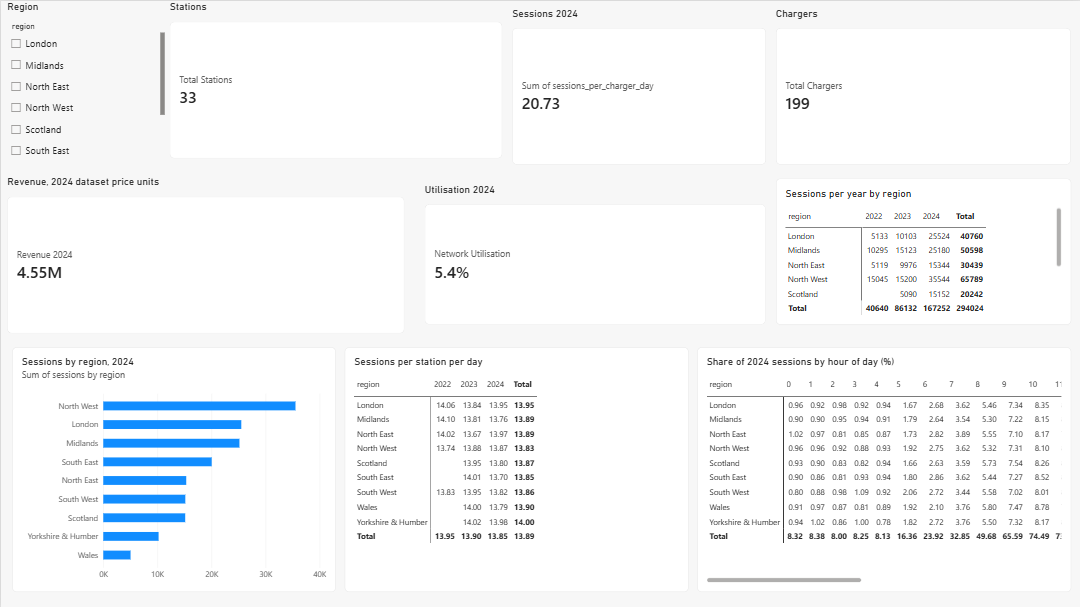

This screenshot's page, from the dashboard's own definition file:
{"tool":"powerbi","page":{"name":"Regional_Demand","canvas":[1920,1080],"ordinal":0},"visuals":[{"type":"slicer","title":"Region","fields":{"Values":["Dim_Region.region"]},"box":[10,0,280,280],"z":0},{"type":"cardVisual","title":"Sessions 2024","fields":{"Data":["Sum(regional_supply_demand.sessions_per_charger_day)"]},"box":[908.9,11.1,451.1,280],"z":1},{"type":"cardVisual","title":"Revenue, 2024 dataset price units","fields":{"Data":["regional_supply_demand.Revenue 2024"]},"box":[11.1,311.1,706.7,280],"z":2},{"type":"cardVisual","title":"Utilisation 2024","fields":{"Data":["regional_supply_demand.Network Utilisation"]},"box":[753.3,324.4,606.7,251.1],"z":3},{"type":"cardVisual","title":"Stations","fields":{"Data":["regional_supply_demand.Total Stations"]},"box":[300,0,591.1,280],"z":4},{"type":"cardVisual","title":"Chargers","fields":{"Data":["regional_supply_demand.Total Chargers"]},"box":[1377.8,11.1,524.4,280],"z":5},{"type":"pivotTable","title":"Sessions per year by region","fields":{"Columns":["regional_yearly_demand.year"],"Rows":["regional_yearly_demand.region"],"Values":["Sum(regional_yearly_demand.sessions)"]},"box":[1377.8,315.6,524.4,260],"z":6},{"type":"pivotTable","title":"Sessions per station per day","fields":{"Columns":["regional_yearly_demand.year"],"Rows":["regional_yearly_demand.region"],"Values":["Avg(regional_yearly_demand.sessions_per_station_day)"]},"box":[611.1,615.6,611.1,435.6],"z":7},{"type":"pivotTable","title":"Share of 2024 sessions by hour of day (%)","fields":{"Columns":["regional_hourly_demand.hour"],"Rows":["regional_hourly_demand.region"],"Values":["Sum(regional_hourly_demand.share_pct)"]},"box":[1237.8,615.6,664.4,435.6],"z":8},{"type":"clusteredBarChart","title":"Sessions by region, 2024","fields":{"Category":["regional_supply_demand.region"],"Y":["Sum(regional_supply_demand.sessions)"]},"box":[20,615.6,575.6,435.6],"z":9}]}

Visuals, with their boxes in screenshot pixels (x1, y1, x2, y2), scaled from the page's 1920x1080 canvas onto the 1080x607 screenshot:
"Region" slicer: (x1=6, y1=0, x2=163, y2=157)
"Sessions 2024" cardVisual: (x1=511, y1=6, x2=765, y2=164)
"Revenue, 2024 dataset price units" cardVisual: (x1=6, y1=175, x2=404, y2=332)
"Utilisation 2024" cardVisual: (x1=424, y1=182, x2=765, y2=323)
"Stations" cardVisual: (x1=169, y1=0, x2=501, y2=157)
"Chargers" cardVisual: (x1=775, y1=6, x2=1070, y2=164)
"Sessions per year by region" pivotTable: (x1=775, y1=177, x2=1070, y2=324)
"Sessions per station per day" pivotTable: (x1=344, y1=346, x2=687, y2=591)
"Share of 2024 sessions by hour of day (%)" pivotTable: (x1=696, y1=346, x2=1070, y2=591)
"Sessions by region, 2024" clusteredBarChart: (x1=11, y1=346, x2=335, y2=591)
